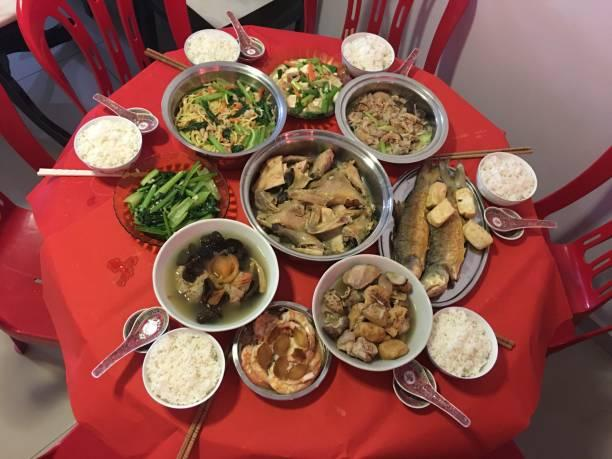Braised Crucian Carp: (239, 130, 393, 261), (383, 164, 491, 303), (151, 219, 276, 331), (311, 255, 431, 371), (160, 61, 286, 163), (114, 149, 231, 248), (334, 72, 447, 163), (231, 303, 330, 401), (266, 51, 348, 121)
